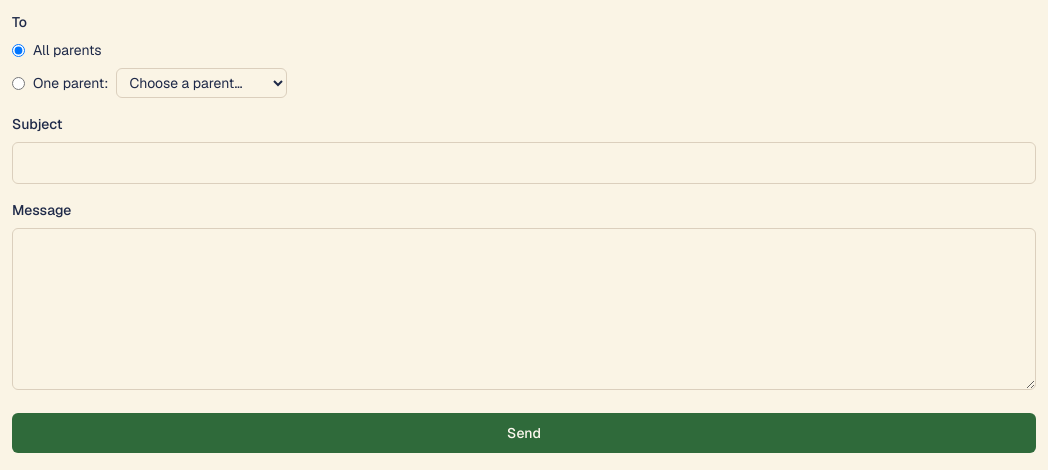
Test: ComposeForm audience picker › switches to One parent when a parent is actually chosen
The image size is (1048, 470).
Select "blake@example.com" in the dropdown named "Which parent" at (202, 83), box [116, 68, 287, 98]
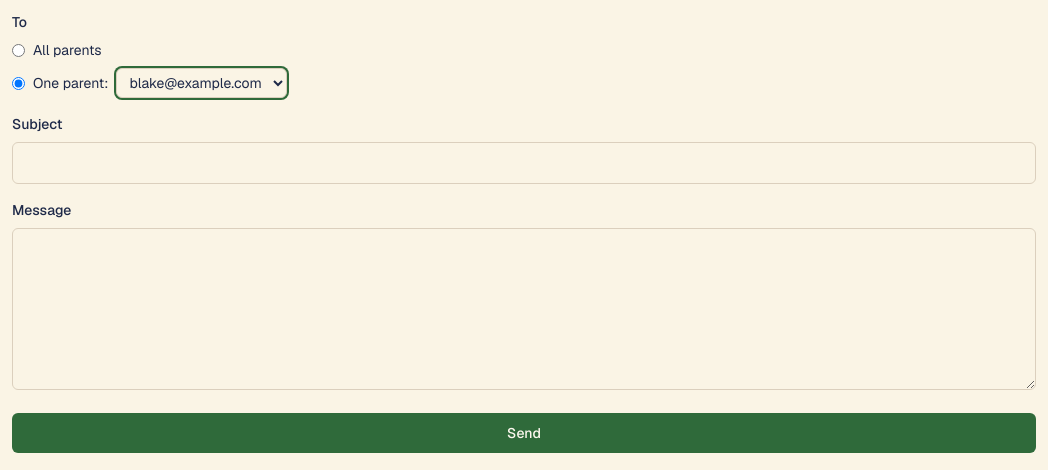
Expected: the radio button labelled "One parent:" is checked, [12, 76, 25, 90]
